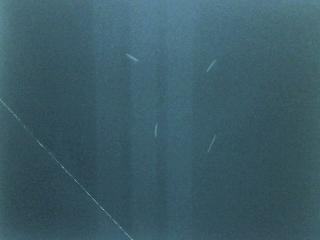crack: (0, 98, 132, 240)
scratch: (120, 43, 144, 71), (202, 128, 223, 157), (201, 53, 223, 80), (145, 118, 166, 143)
